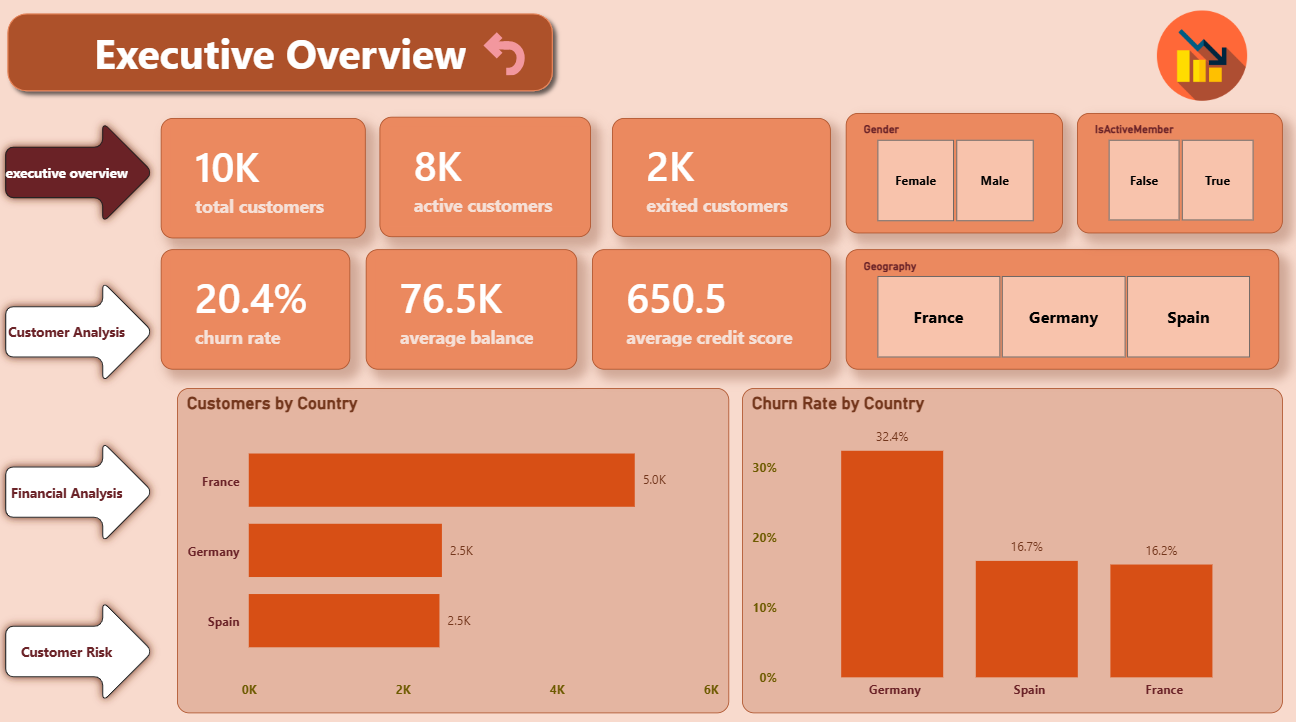

What the dashboard file says about the page in this screenshot:
{"tool":"powerbi","page":{"name":"executive overview","canvas":[1280,720],"ordinal":1},"visuals":[{"type":"cardVisual","fields":{"Data":["Churn_Modelling.total customers"]},"box":[161.7,118.3,201.7,118.3],"z":0},{"type":"cardVisual","fields":{"Data":["Churn_Modelling.exited customers"]},"box":[605,118,215.2,116.8],"z":1000},{"type":"cardVisual","fields":{"Data":["Churn_Modelling.churn rate"]},"box":[161.7,246.7,186.7,118.3],"z":2000},{"type":"cardVisual","fields":{"Data":["Churn_Modelling.active customers"]},"box":[376.7,116.7,208.3,118.3],"z":3000},{"type":"cardVisual","fields":{"Data":["Churn_Modelling.average balance"]},"box":[363.3,246.7,208.3,118.3],"z":4000},{"type":"cardVisual","fields":{"Data":["Churn_Modelling.average credit score"]},"box":[585,246.7,235,118.3],"z":5000},{"type":"clusteredBarChart","title":"Customers by Country","fields":{"Category":["Churn_Modelling.Geography"],"Y":["CountNonNull(Churn_Modelling.CustomerId)"]},"box":[176.7,383.3,543.3,320],"z":6000},{"type":"clusteredColumnChart","title":"Churn Rate by Country","fields":{"Category":["Churn_Modelling.Geography"],"Y":["Churn_Modelling.churn rate"]},"box":[733.3,383.3,531.7,320],"z":7000},{"type":"slicer","fields":{"Values":["Churn_Modelling.Gender"]},"box":[835,113.3,213.3,118.3],"z":8000},{"type":"slicer","fields":{"Values":["Churn_Modelling.Geography"]},"box":[835,246.7,426.7,118.3],"z":9000},{"type":"slicer","fields":{"Values":["Churn_Modelling.IsActiveMember"]},"box":[1062.7,113.7,202.2,118.1],"z":10000},{"type":"shape","box":[1.2,6.1,554.5,94.7],"z":11000},{"type":"pageNavigator","box":[0,113.7,162.4,591.9],"z":12000},{"type":"actionButton","box":[467.2,29.5,65.2,50.4],"z":13000},{"type":"image","box":[1120.3,11.8,129.9,88.6],"z":14000}]}

Visuals, with their boxes in screenshot pixels (x1, y1, x2, y2), scaled from the page's 1280x720 canvas onto the 1296x722 screenshot:
cardVisual - Churn_Modelling.total customers: detection(164, 119, 368, 237)
cardVisual - Churn_Modelling.exited customers: detection(613, 118, 830, 235)
cardVisual - Churn_Modelling.churn rate: detection(164, 247, 353, 366)
cardVisual - Churn_Modelling.active customers: detection(381, 117, 592, 236)
cardVisual - Churn_Modelling.average balance: detection(368, 247, 579, 366)
cardVisual - Churn_Modelling.average credit score: detection(592, 247, 830, 366)
"Customers by Country" clusteredBarChart: detection(179, 384, 729, 705)
"Churn Rate by Country" clusteredColumnChart: detection(742, 384, 1281, 705)
slicer - Churn_Modelling.Gender: detection(845, 114, 1061, 232)
slicer - Churn_Modelling.Geography: detection(845, 247, 1277, 366)
slicer - Churn_Modelling.IsActiveMember: detection(1076, 114, 1281, 232)
shape: detection(1, 6, 563, 101)
pageNavigator: detection(0, 114, 164, 708)
actionButton: detection(473, 30, 539, 80)
image: detection(1134, 12, 1266, 101)
